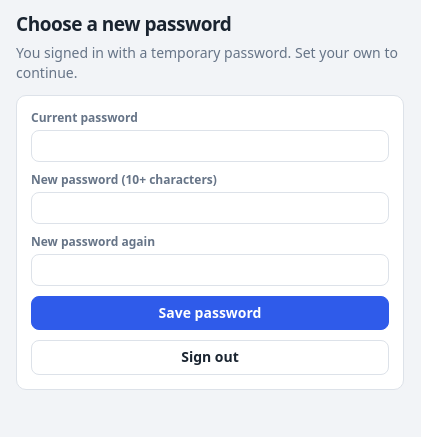
Test: login › checks the new password before calling the API
The width and height of the screenshot is (421, 437).
Step 1. Type "temp" into the password field labelled "Current password" → point(210, 146), box [31, 130, 389, 162]
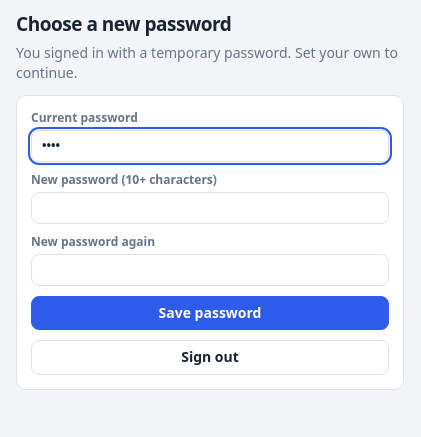
Step 2. Type "short" into the password field labelled "New password (10+ characters)" → point(210, 208), box [31, 192, 389, 224]
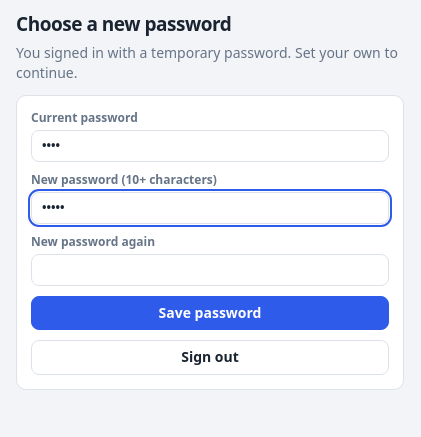
Step 3. Type "short" into the password field labelled "New password again" → point(210, 270), box [31, 254, 389, 286]
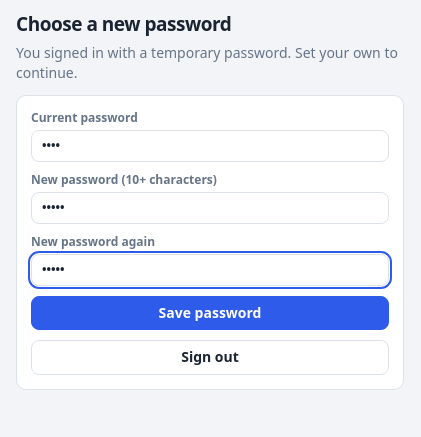
Step 4. Click the button "Save password" → point(210, 313), box [31, 296, 389, 330]
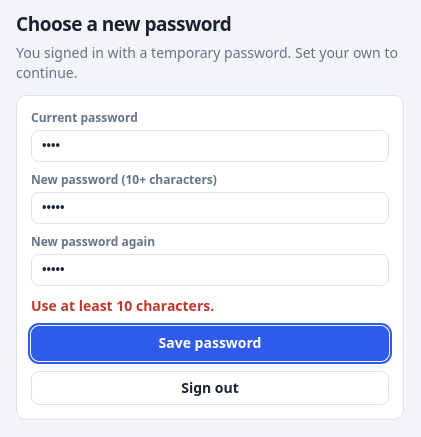
Check: the message shows "at least 10", box [31, 296, 214, 315]
Step 5. Type "long-enough-pass" into the password field labelled "New password (10+ characters)" → point(210, 208), box [31, 192, 389, 224]
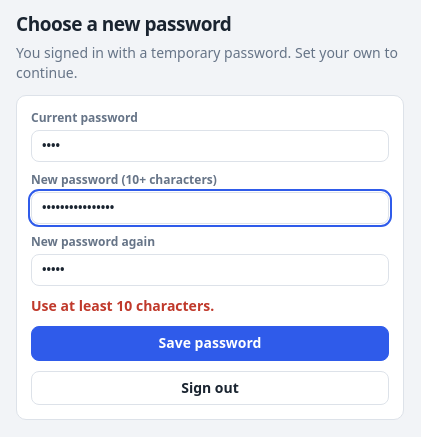
Step 6. Click the button "Save password" → point(210, 344), box [31, 326, 389, 361]
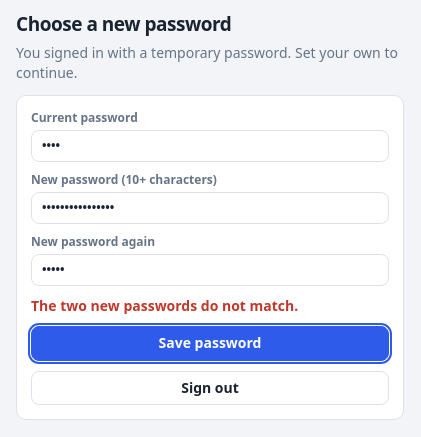
Check: the message shows "do not match", box [31, 296, 298, 315]
